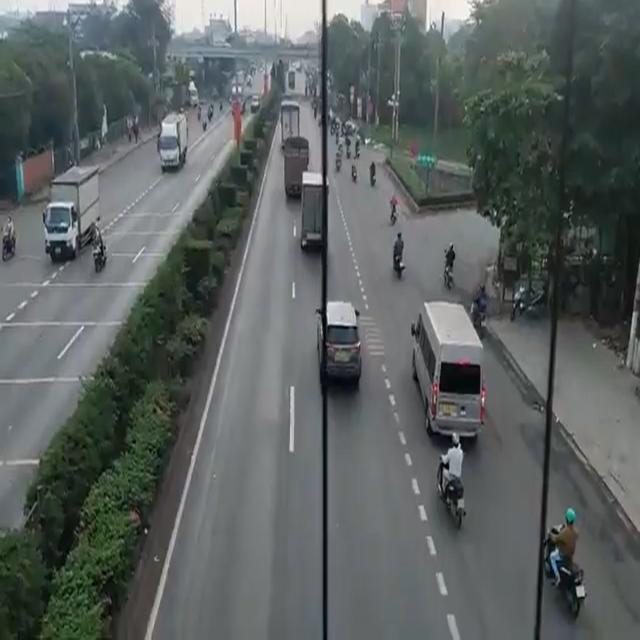car: (410, 299, 484, 443), (314, 303, 360, 386)
motor: (544, 532, 582, 614), (436, 449, 464, 531), (389, 234, 408, 279), (0, 222, 18, 260), (91, 228, 107, 268)
truck: (46, 168, 99, 250), (299, 166, 326, 258), (160, 117, 188, 177), (287, 139, 307, 199), (280, 96, 300, 145)
